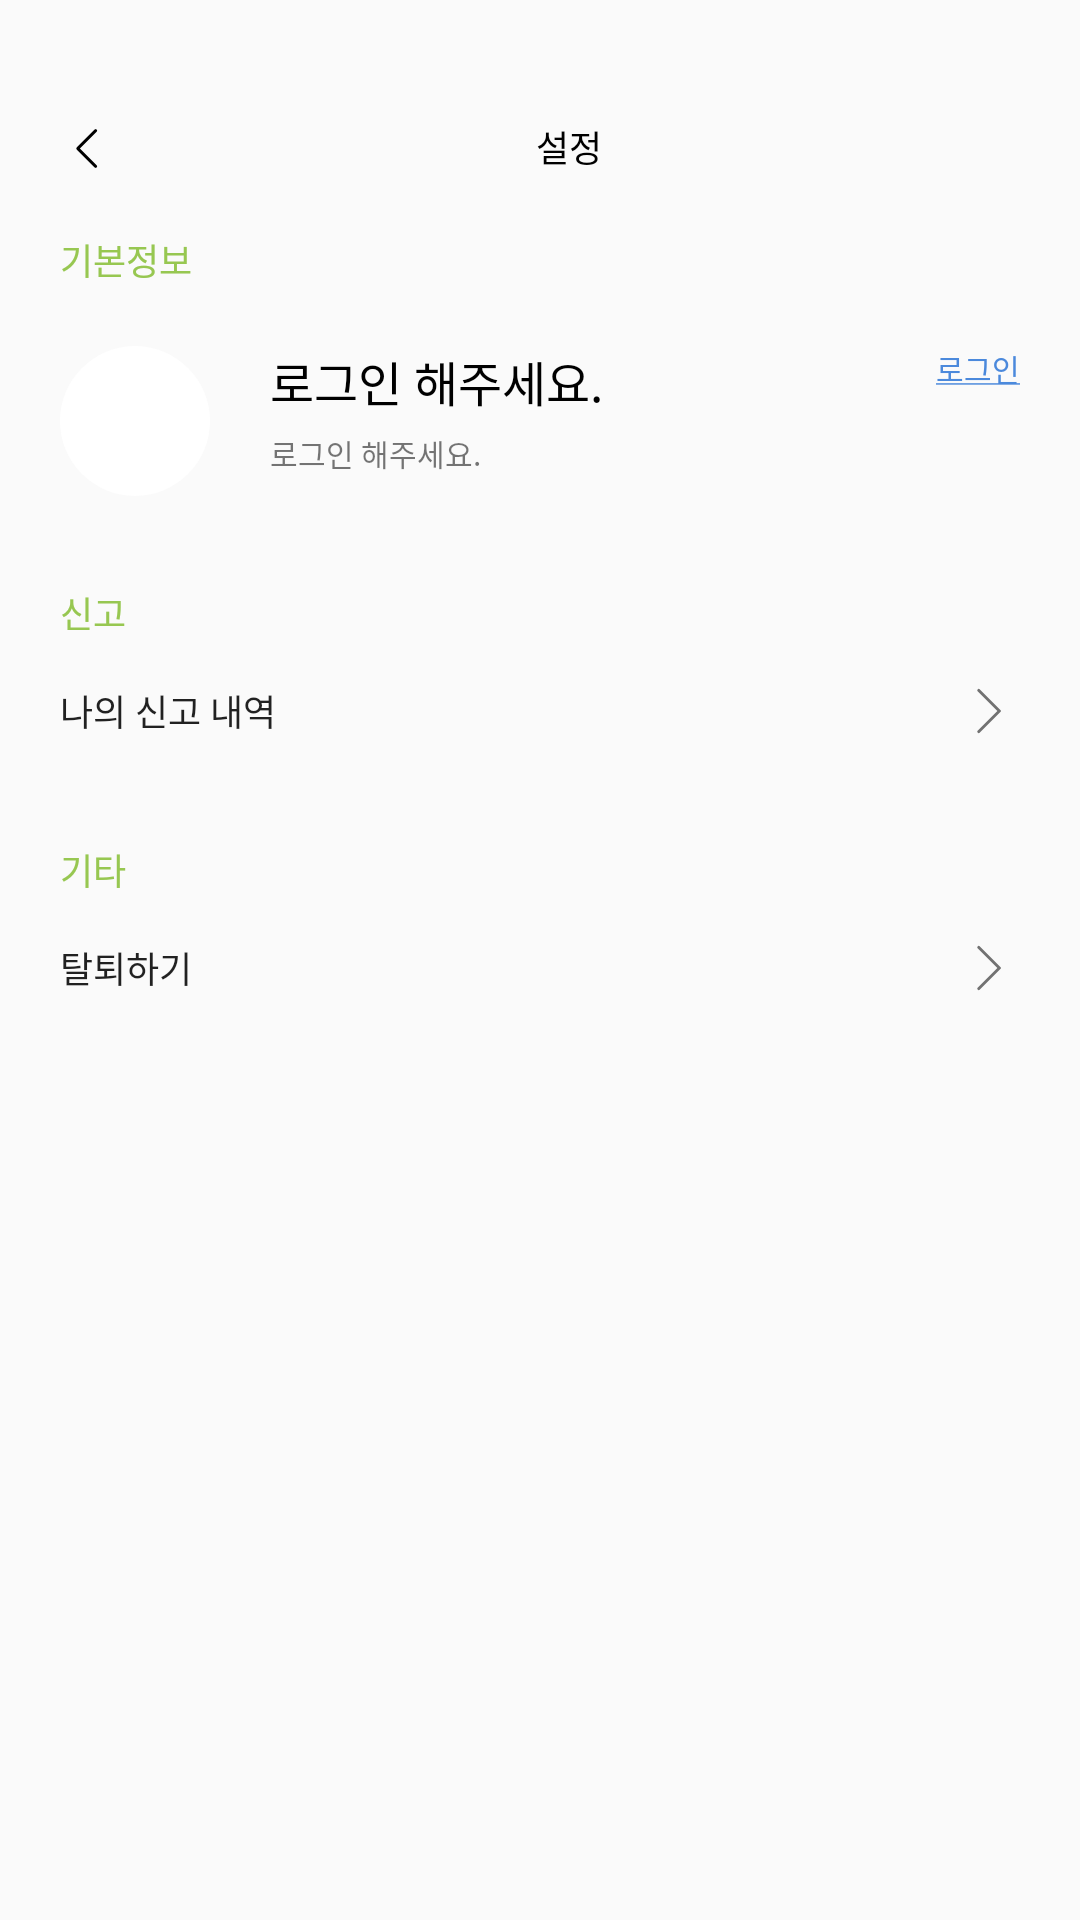

Icon click points for this 1080w x 1920h phone screenshot, format [x,y]:
backbutton: [86,148]
